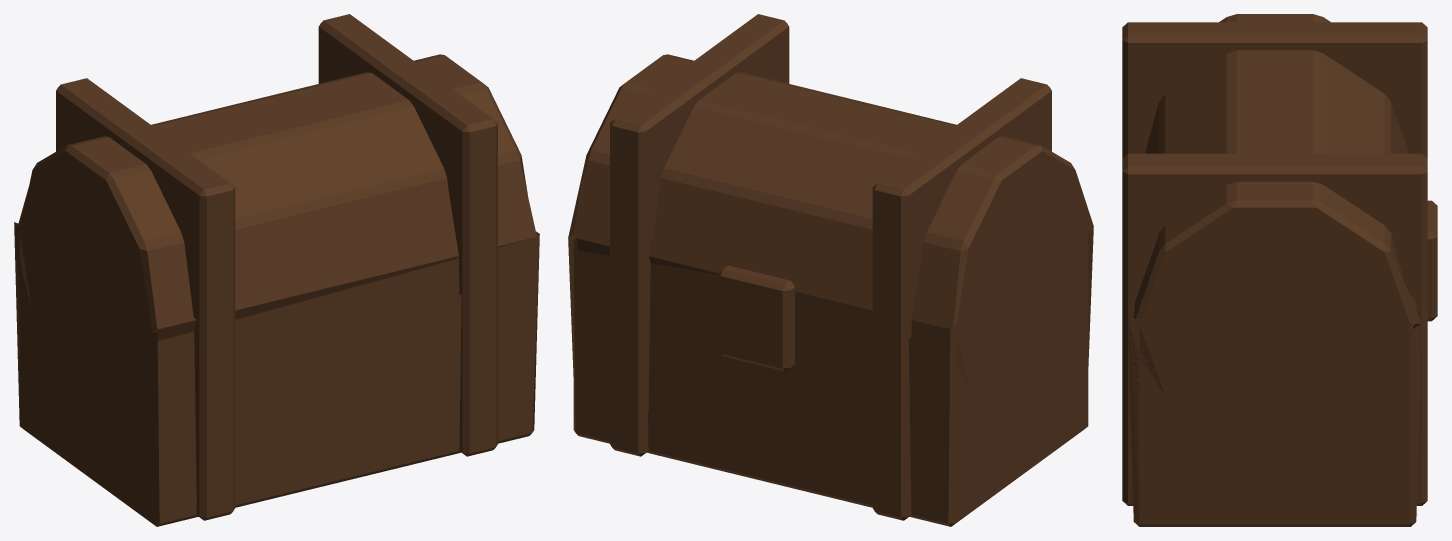
File: chest.fbx
3 views of the same model, side by side, from view 1: azimuth 30°, elevation 25°; view 2: azimuth 150°, elevation 25°; view 3: azimuth 270°, elevation 25° (orthographic). The views are drawn at different scales.
Visible parts, largest first — view 1: chest; view 2: chest; view 3: chest.
Boxes of the visible parts, left/top/right/bottom form: chest: left=14, top=14, right=539, bottom=526; chest: left=568, top=14, right=1093, bottom=526; chest: left=1122, top=14, right=1437, bottom=526.
Size of the model in its own units: 320 by 265 by 223.
